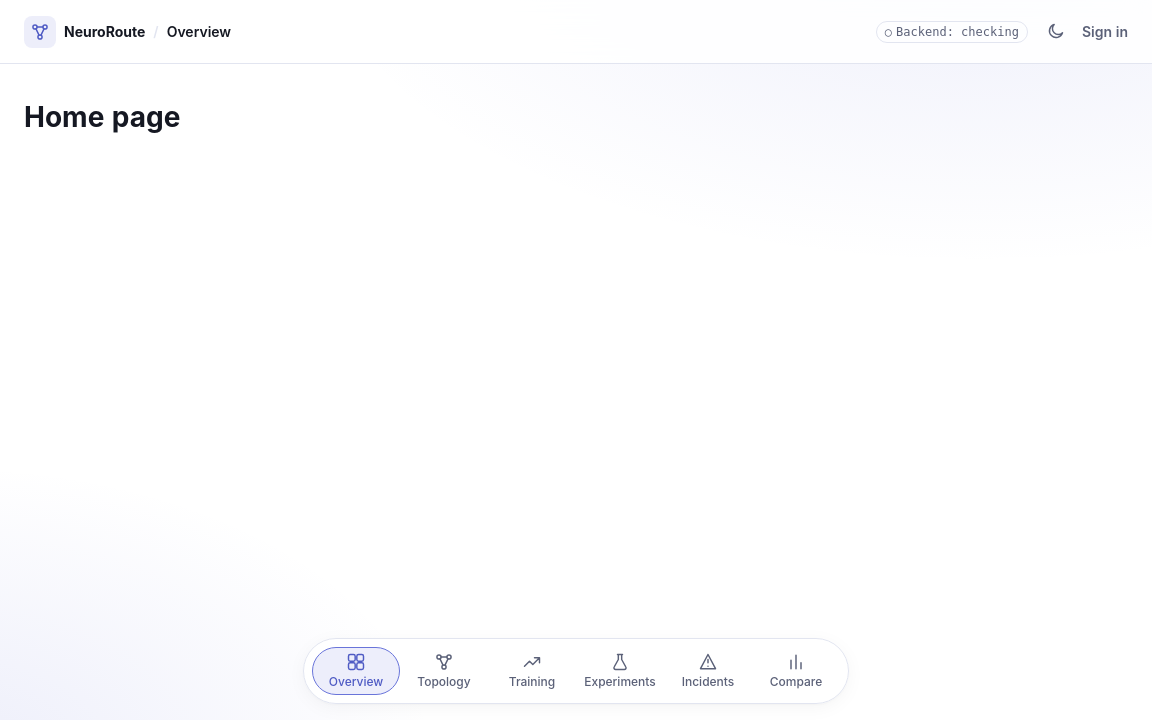
Test case: AppShell › replays the enter animation by remounting the page wrapper on navigation
Expected: the element showing "Home page" is shown, [24, 100, 180, 134]
Click the link "Sign in" at (1105,31), box [1082, 22, 1128, 40]
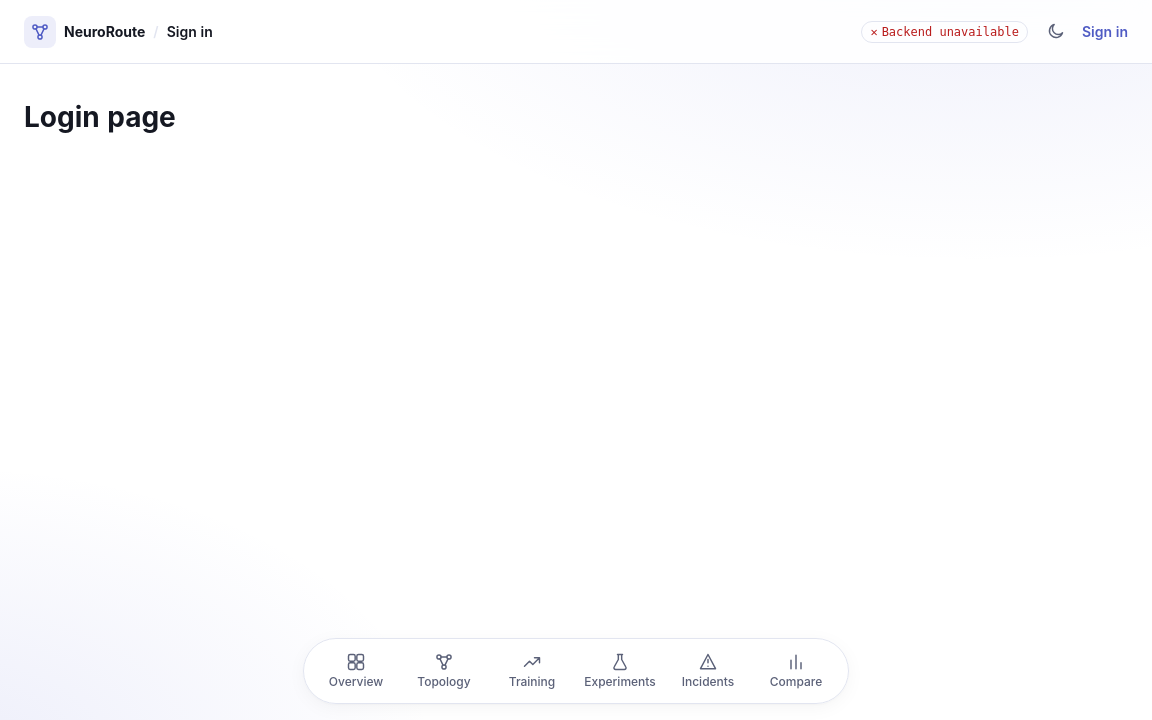
Expected: the heading "Login page" is shown, [24, 100, 176, 134]
